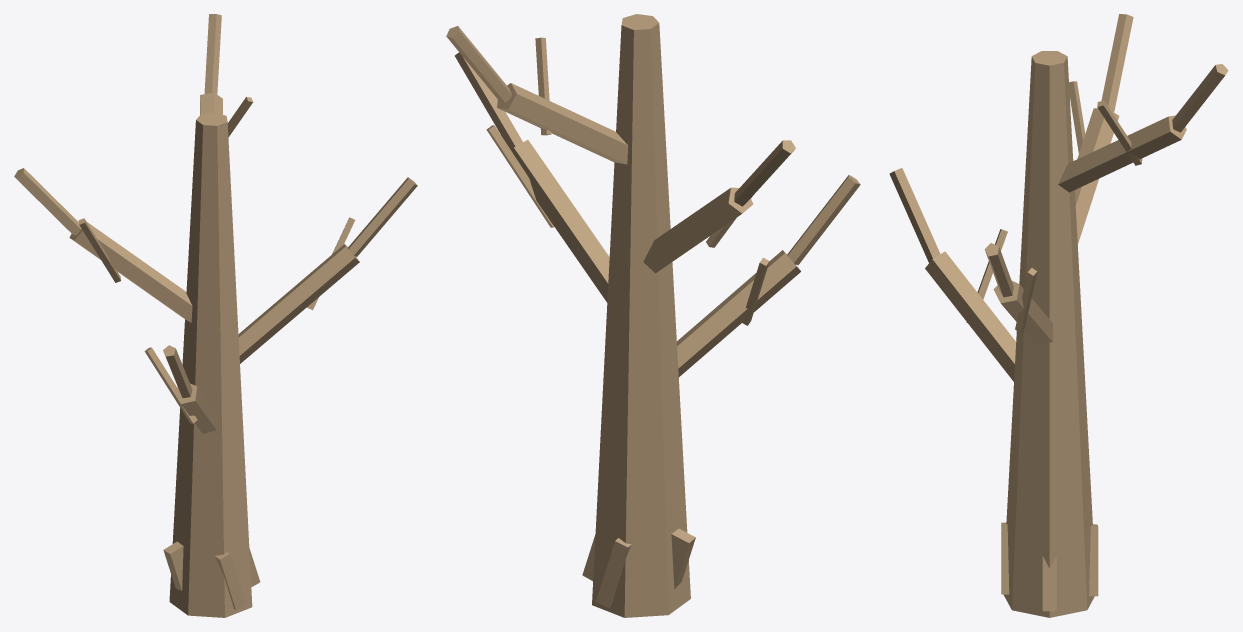
File: dead-tree-survival.glb
3 views of the same model, side by side, from view 1: azimuth 30°, elevation 25°; view 2: azimuth 150°, elevation 25°; view 3: azimuth 270°, elevation 25° (orthographic). The views are drawn at different scales.
Parts seen in each view (by area): view 1: dead-tree; view 2: dead-tree; view 3: dead-tree.
Part boxes in pixels (box(x1,y1,x2,y2)): dead-tree: box(14, 14, 417, 617); dead-tree: box(446, 14, 860, 617); dead-tree: box(889, 14, 1228, 617).
Size of the model in its own units: 3.12 by 4.48 by 2.39.
